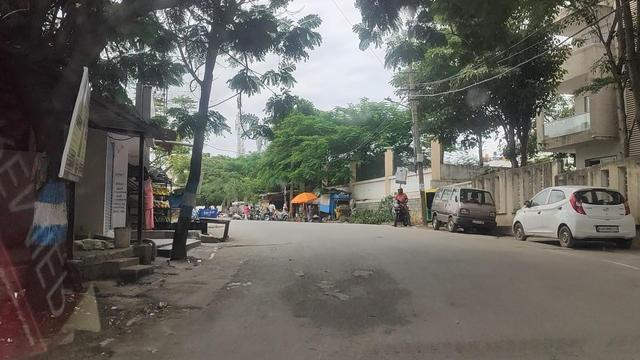RoadDamages: (306, 257, 393, 300)
